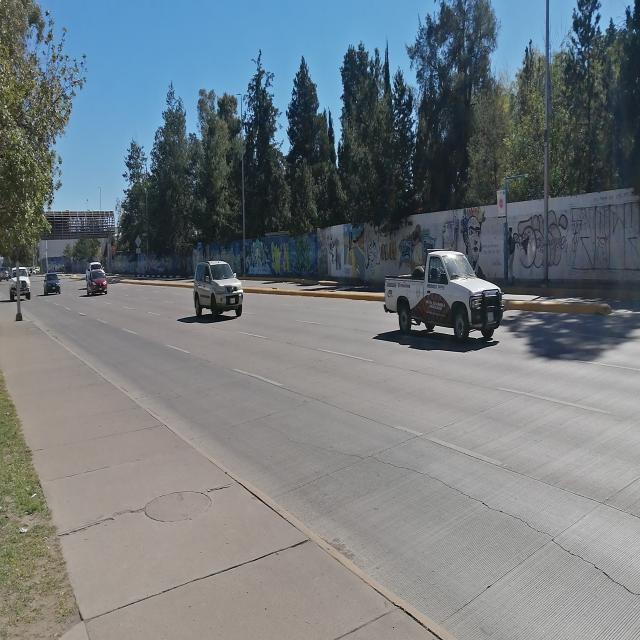Auto: (384, 245, 504, 348), (191, 255, 244, 322), (85, 267, 109, 299), (42, 269, 62, 300)
